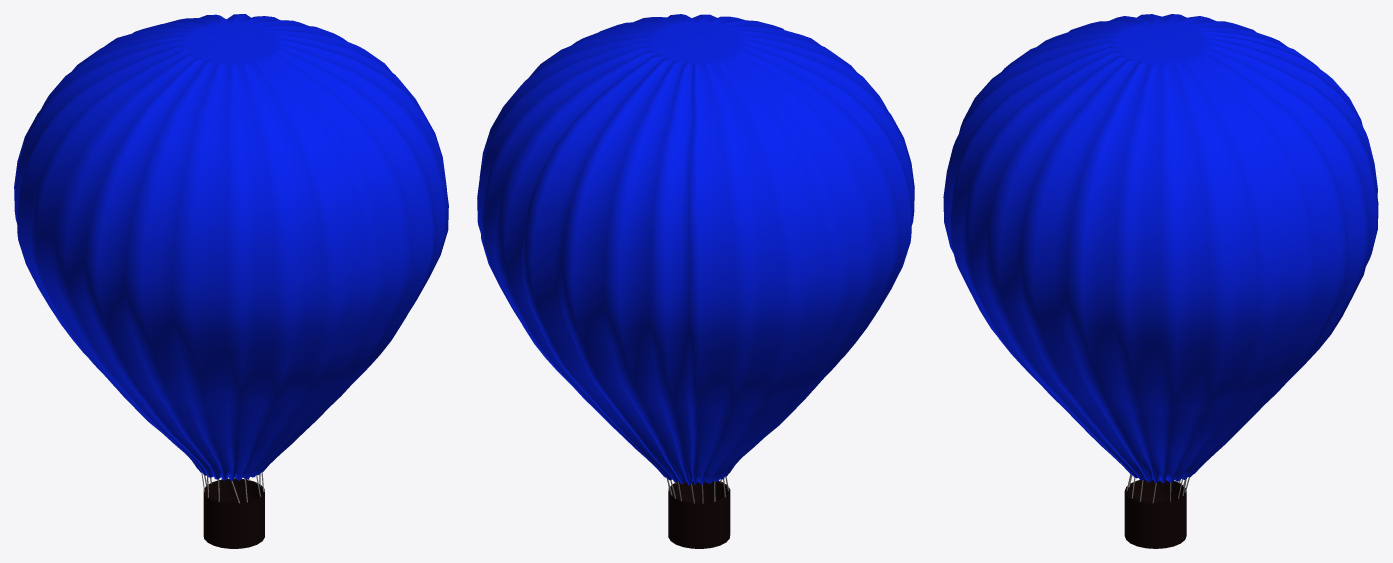
File: cz4gr-balloon.obj
The picture shows the model from 3 angles, left to right: view 1: azimuth 30°, elevation 25°; view 2: azimuth 150°, elevation 25°; view 3: azimuth 270°, elevation 25°; orthographic projection.
Parts seen in each view (by area): view 1: pSphere1, pCylinder1; view 2: pSphere1, pCylinder1; view 3: pSphere1, pCylinder1.
Boxes of the visible parts, left/top/right/bottom form: pSphere1: left=14, top=14, right=448, bottom=480; pCylinder1: left=203, top=478, right=264, bottom=548; pSphere1: left=477, top=14, right=914, bottom=484; pCylinder1: left=668, top=481, right=730, bottom=548; pSphere1: left=943, top=14, right=1378, bottom=483; pCylinder1: left=1124, top=479, right=1186, bottom=548.
Bounding box in the file's own units: 4.39 × 5.47 × 4.37.
